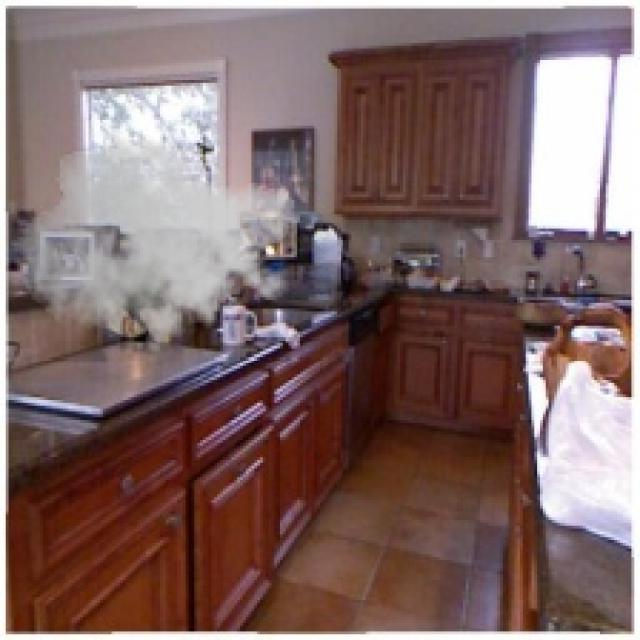smoke: (17, 123, 300, 366)
